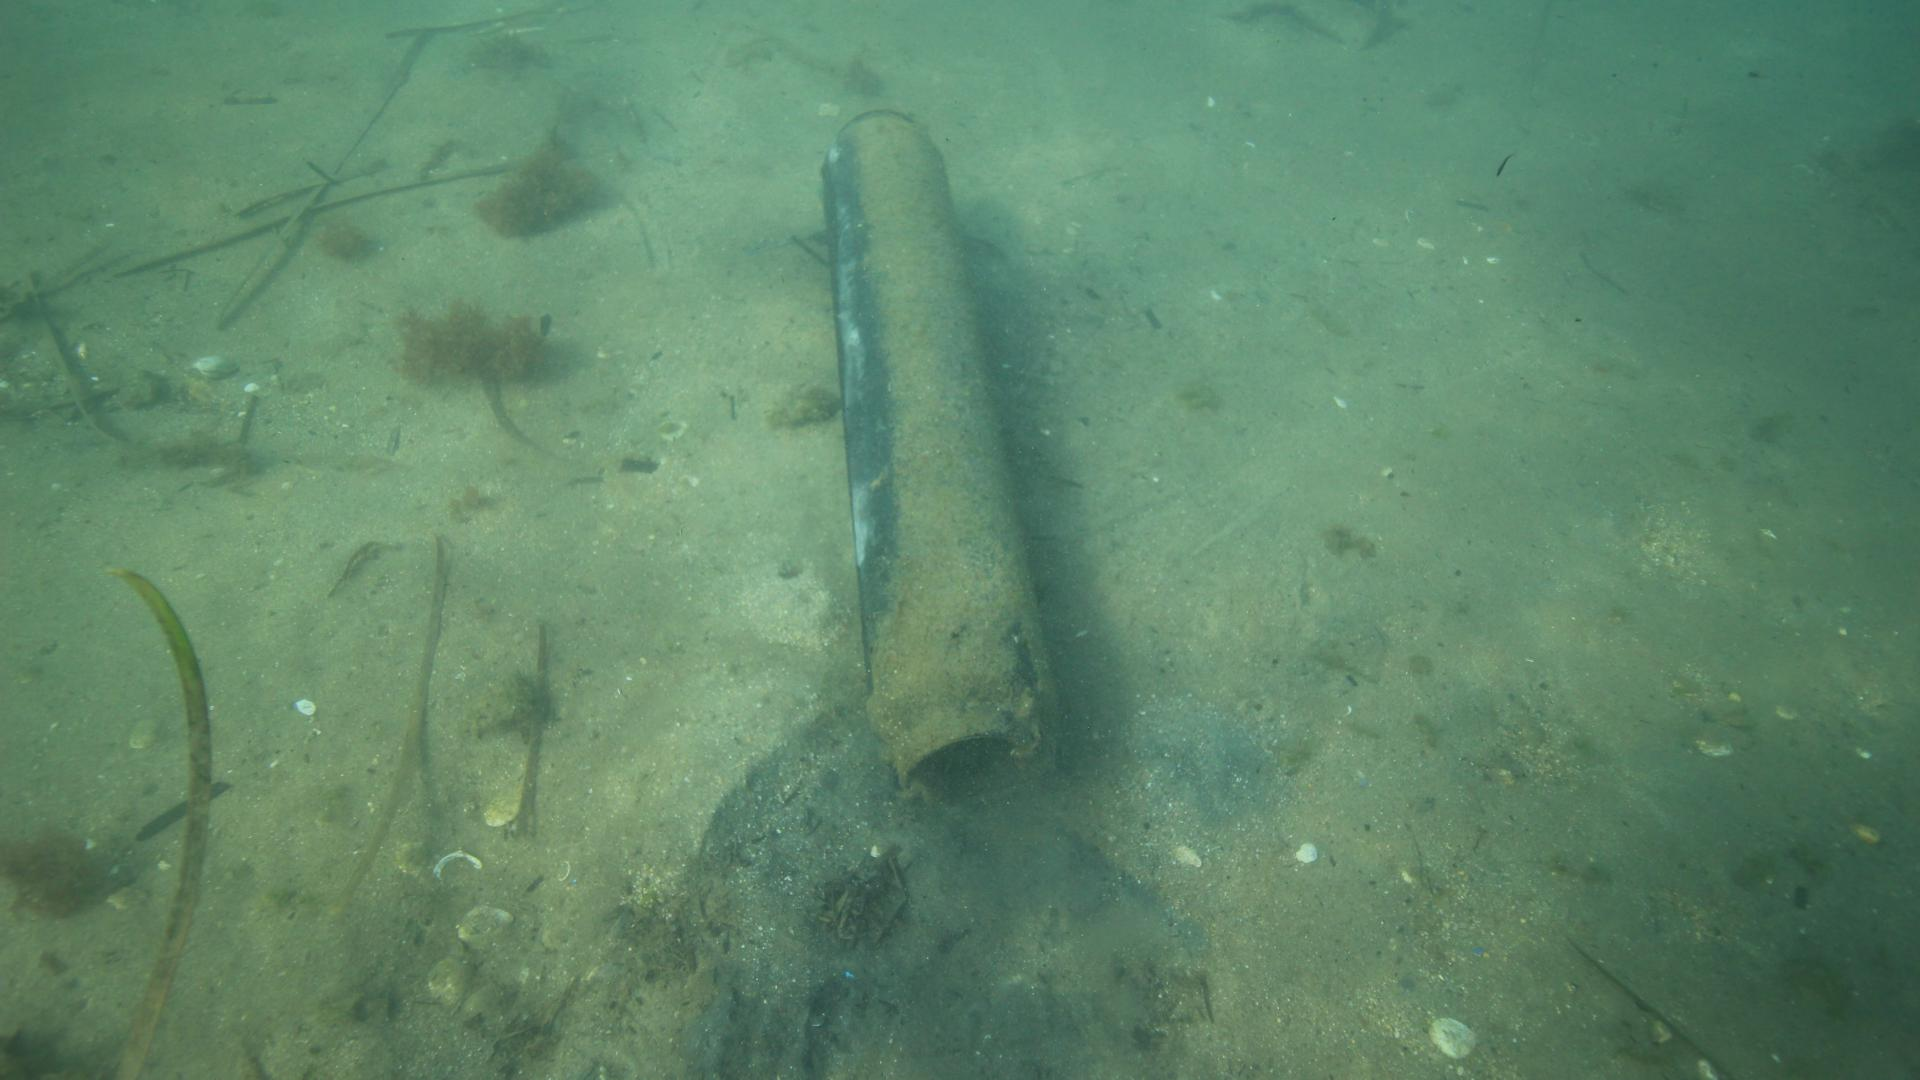eel fish trap: (818, 104, 1058, 803)
